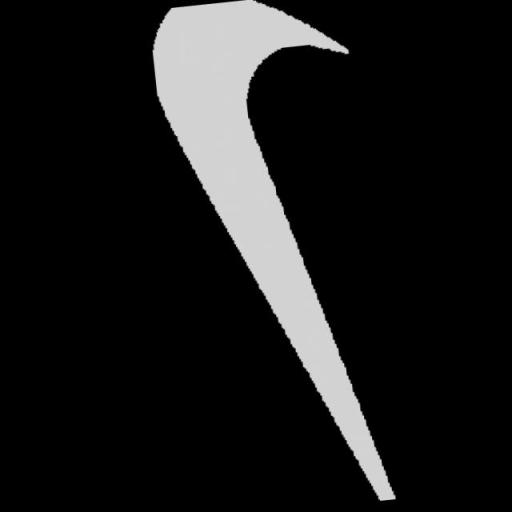Nike: (143, 0, 406, 512)
